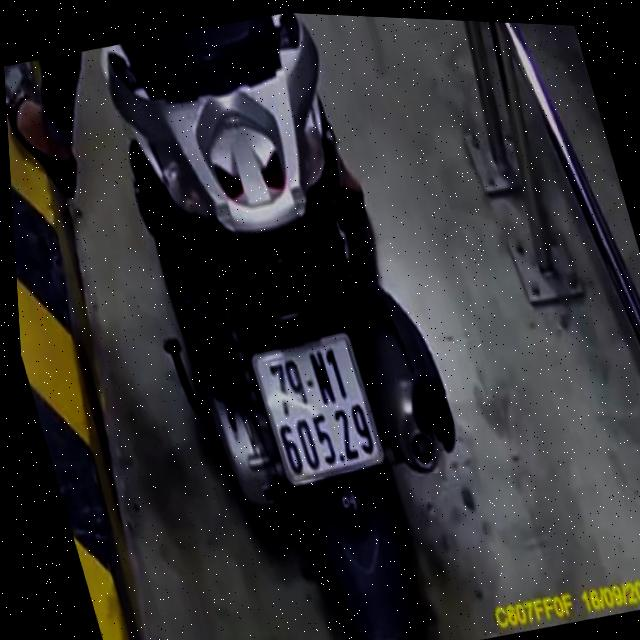motorcycle: (72, 3, 543, 640)
plate: (222, 306, 404, 506)
